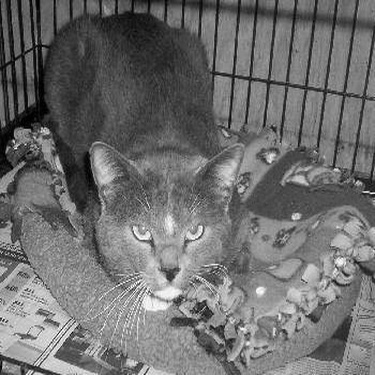cat: (39, 10, 251, 310)
